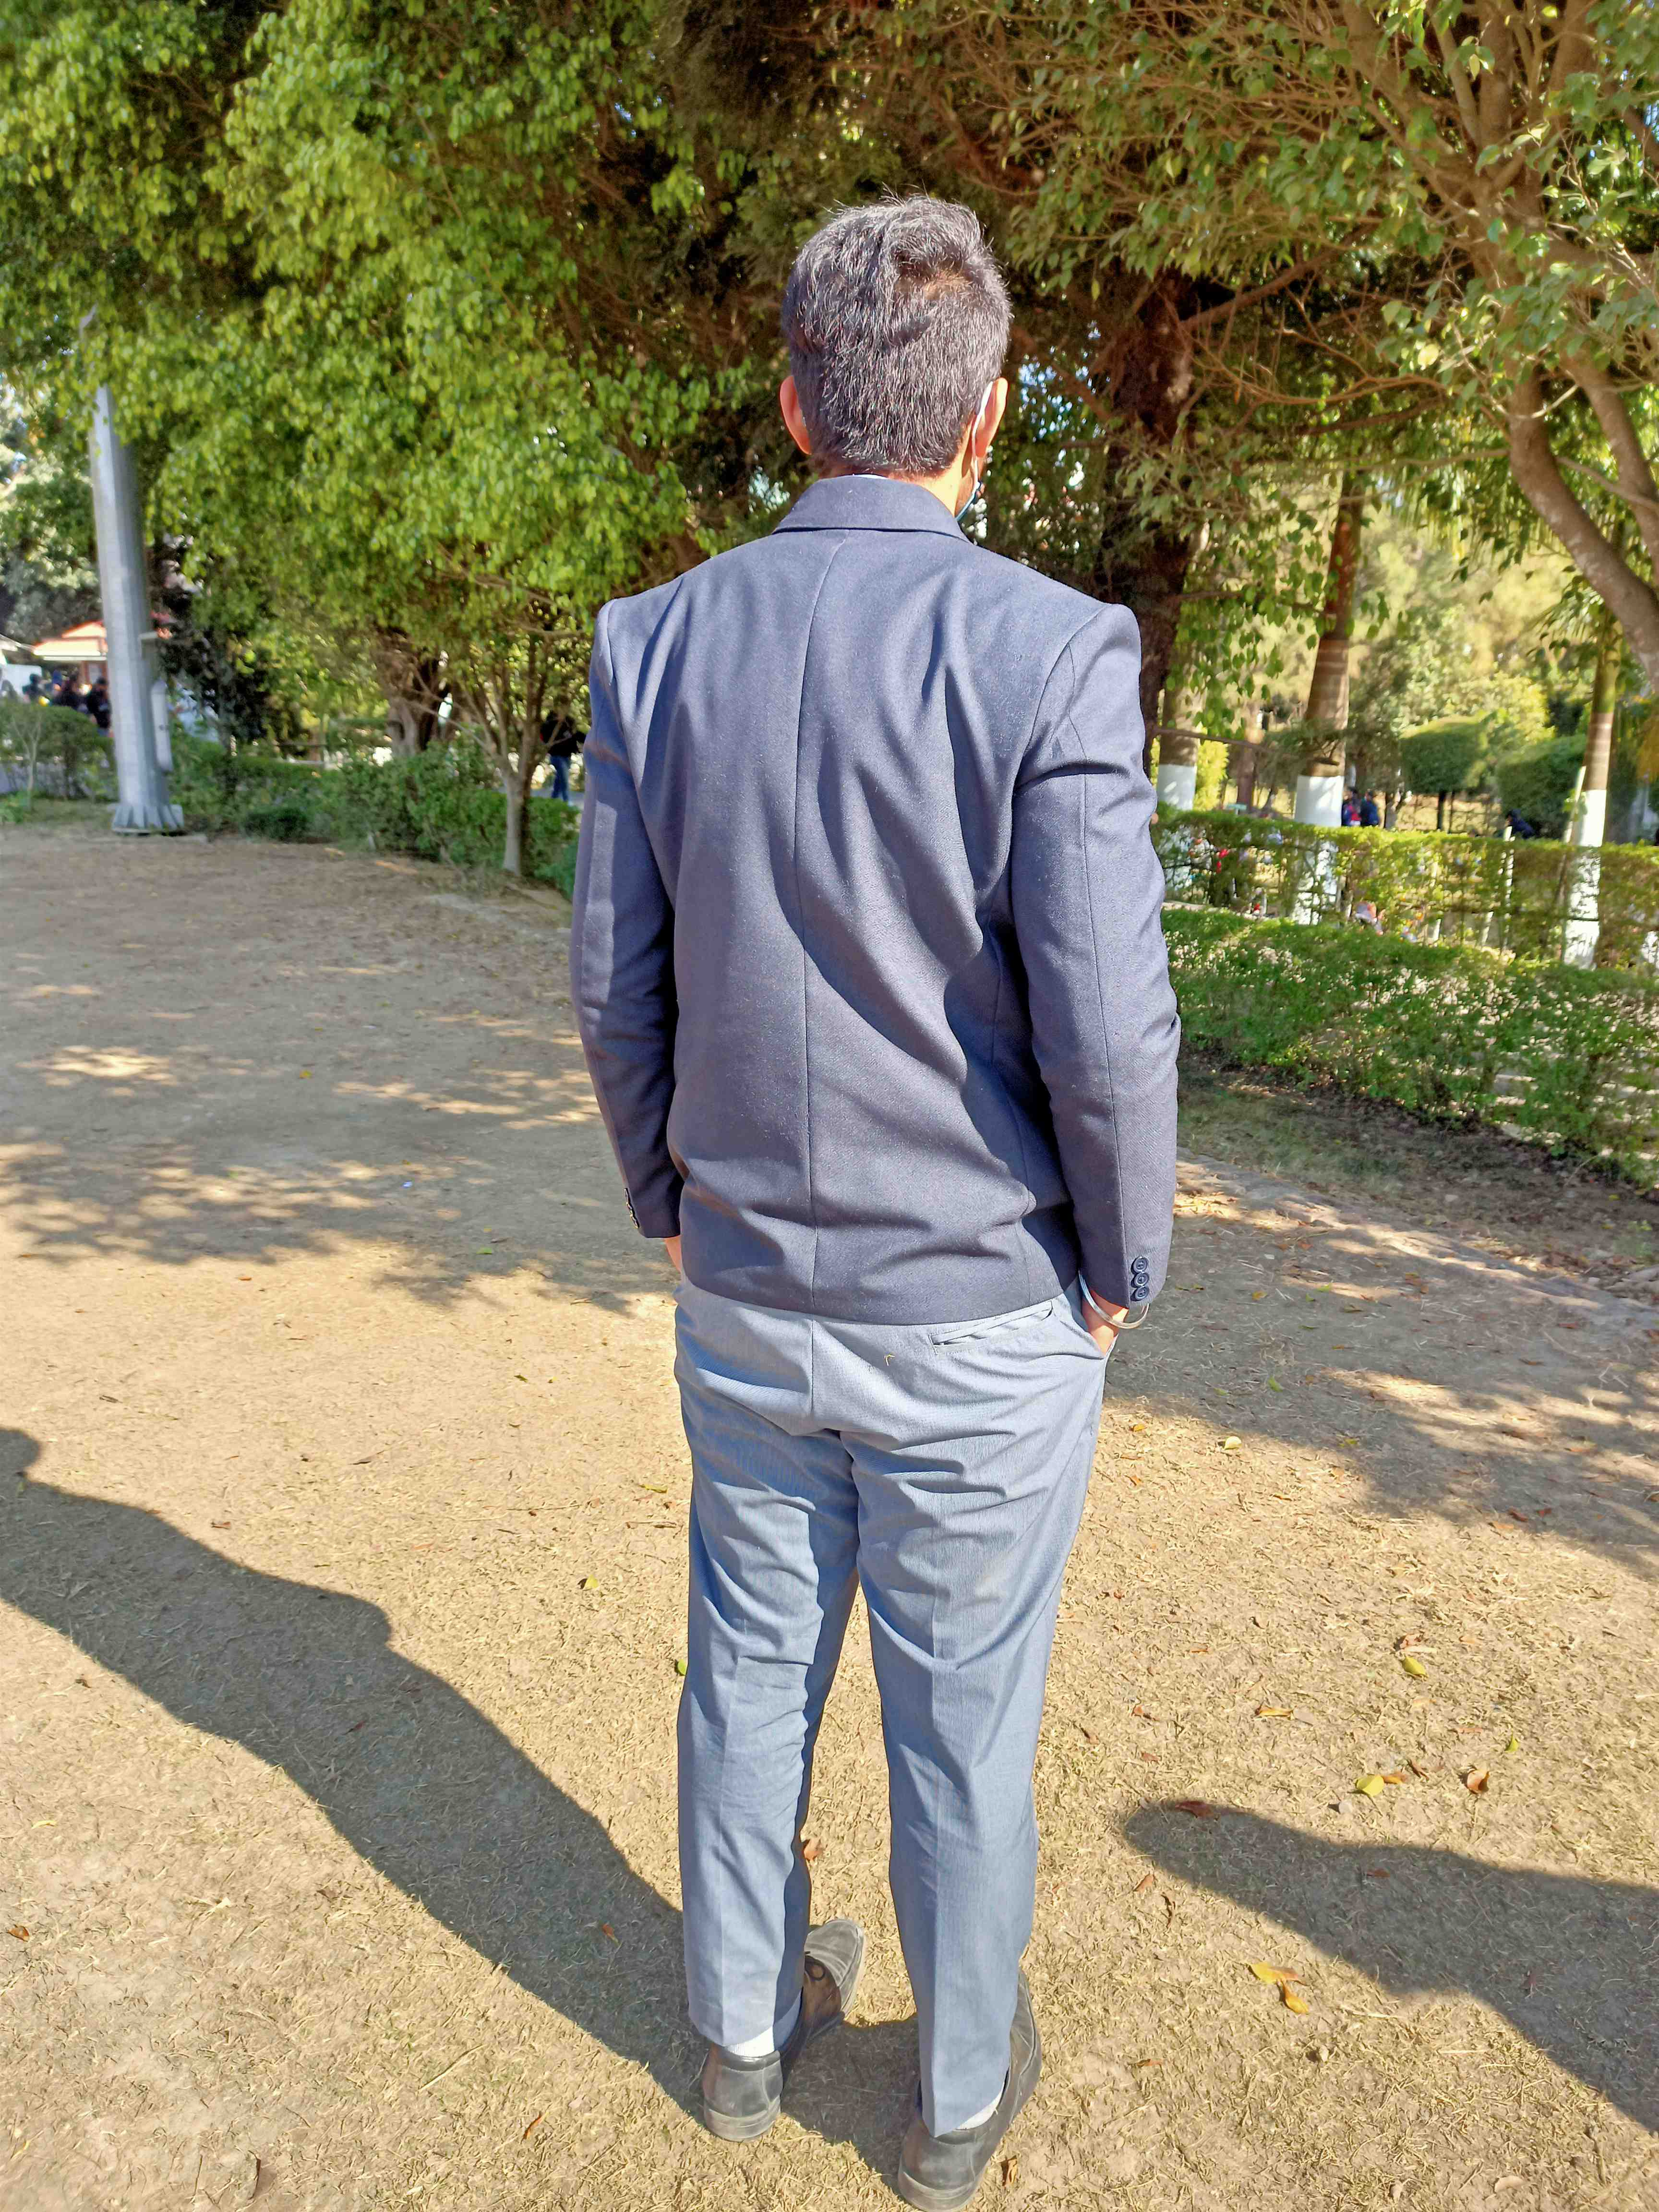blazer: (547, 495, 1187, 1350)
pant: (662, 1251, 1112, 2055)
